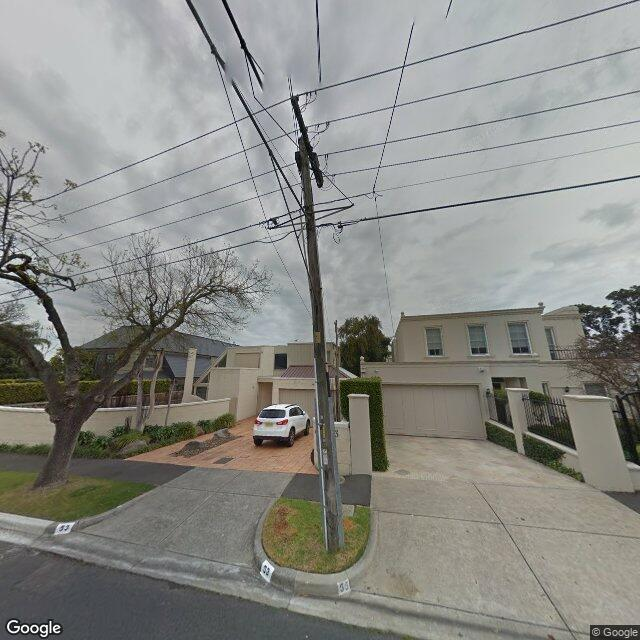crossarm: (292, 96, 324, 188)
streetlight: (186, 0, 310, 220)
timber-pole: (298, 136, 344, 553)
